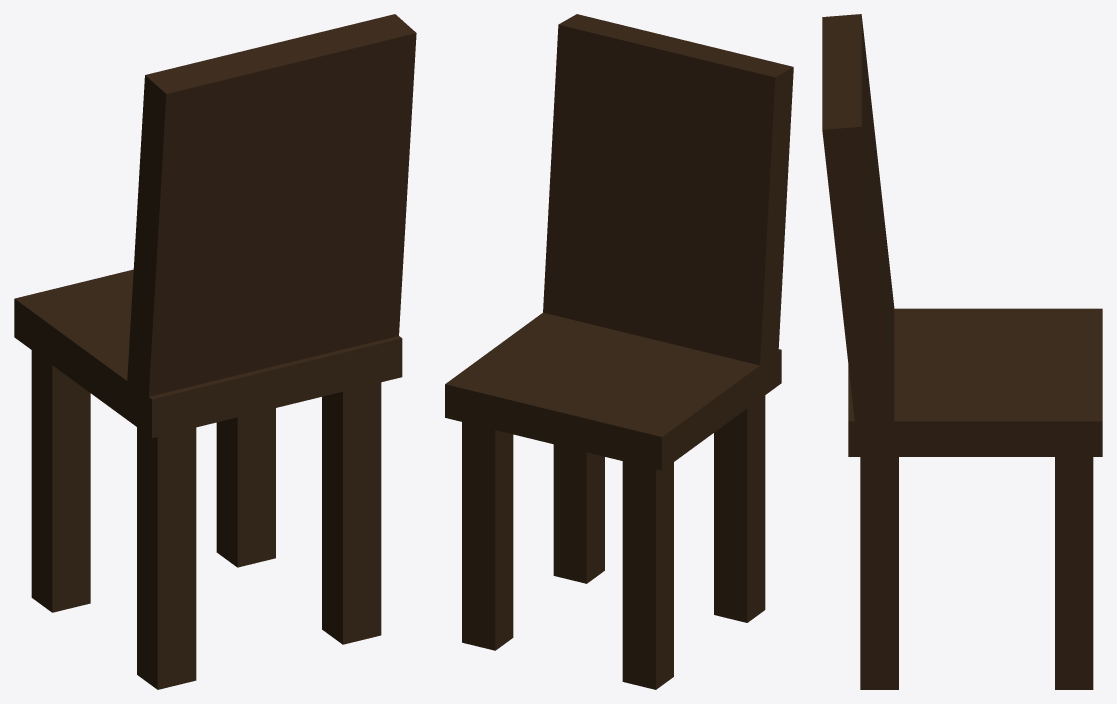
Rendered from Chair.FBX.
The picture shows the model from 3 angles, left to right: view 1: azimuth 30°, elevation 25°; view 2: azimuth 150°, elevation 25°; view 3: azimuth 270°, elevation 25°; orthographic projection. The views are drawn at different scales.
Parts seen in each view (by area): view 1: Plane006; view 2: Plane006; view 3: Plane006.
Part boxes in pixels (box(x1,y1,x2,y2)): Plane006: box(14, 14, 416, 689); Plane006: box(445, 14, 793, 689); Plane006: box(822, 14, 1102, 689).
Size of the model in its own units: 15.55 by 36.67 by 16.36.
